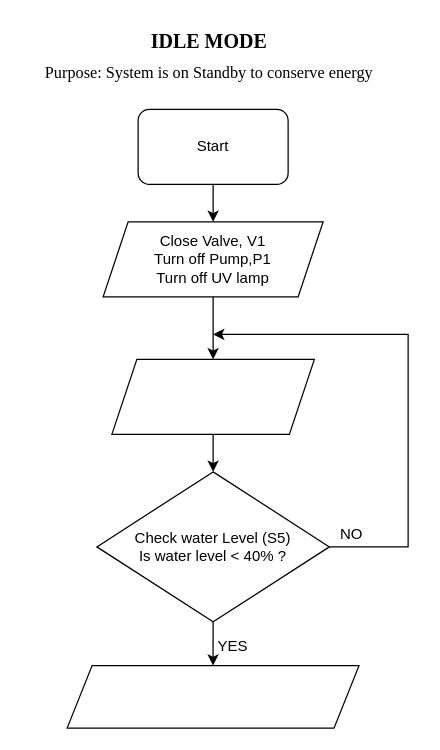
Some shapes in this 440 by 750 pixel diagram are drawn without their labels. Each missing label, with the centre of its shape:
"Activate Filtration Mode" goes at (x=212, y=696).
"Display: STANDBY Green LED Blinking Monitor Water level, S5" goes at (x=212, y=396).
